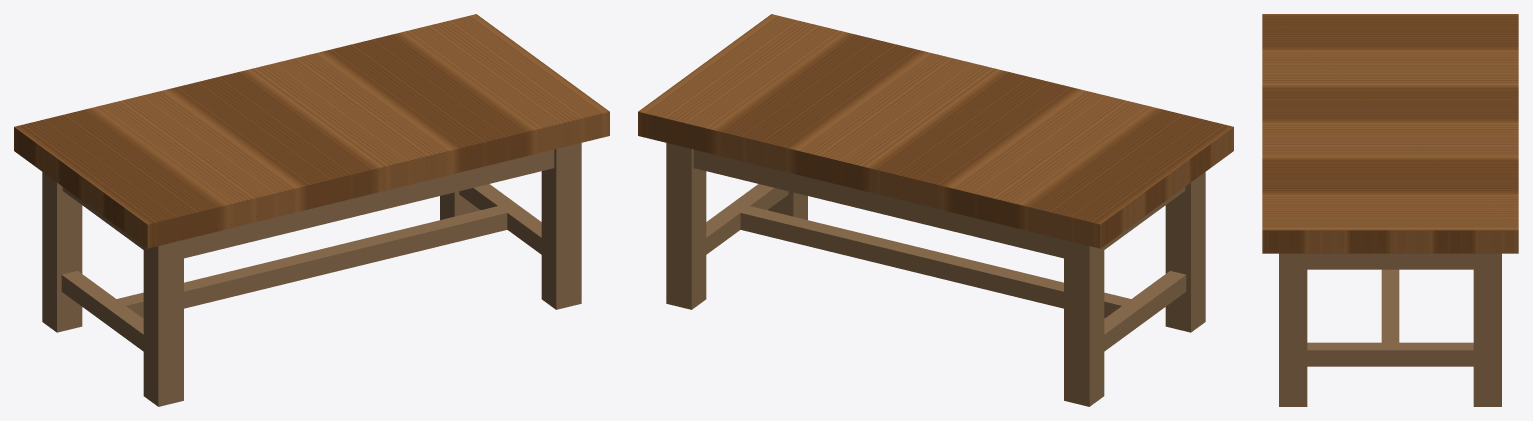
File: table_wooden_heavy.glb
3 renders of one model, left to right at view 1: azimuth 30°, elevation 25°; view 2: azimuth 150°, elevation 25°; view 3: azimuth 270°, elevation 25°, orthographic. The views are drawn at different scales.
Visible parts, largest first — view 1: table_wooden_heavy; view 2: table_wooden_heavy; view 3: table_wooden_heavy.
Boxes of the visible parts, <box> form: table_wooden_heavy: <box>14,14,609,406</box>; table_wooden_heavy: <box>638,14,1233,406</box>; table_wooden_heavy: <box>1262,14,1518,406</box>.
Bounding box in the file's own units: 2 × 0.8 × 1.
Materials: 2 (1 with a texture image).
